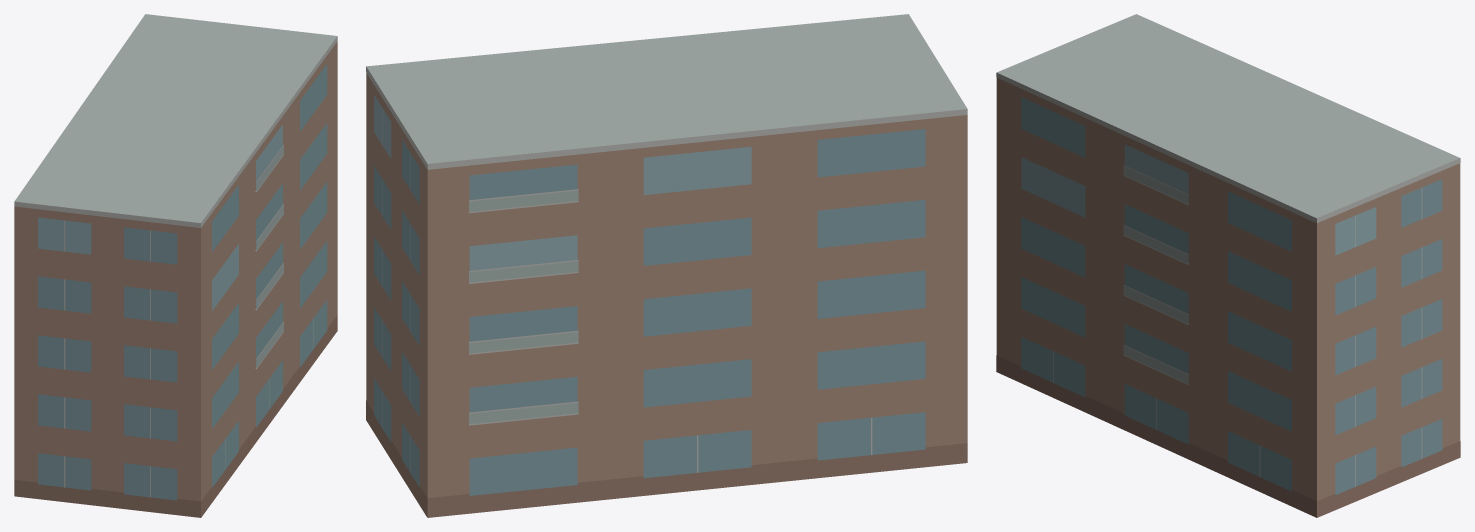
Rendered from survey-upis-32509007.glb.
The picture shows the model from 3 angles, left to right: view 1: azimuth 30°, elevation 25°; view 2: azimuth 150°, elevation 25°; view 3: azimuth 270°, elevation 25°; orthographic projection. The views are drawn at different scales.
Parts seen in each view (by area): view 1: survey-upis-32509007.tmp; view 2: survey-upis-32509007.tmp; view 3: survey-upis-32509007.tmp.
Part boxes in pixels (left/top/right/bottom): survey-upis-32509007.tmp: left=14, top=14, right=337, bottom=517; survey-upis-32509007.tmp: left=366, top=14, right=967, bottom=517; survey-upis-32509007.tmp: left=996, top=14, right=1460, bottom=517.
Size of the model in its own units: 21.59 by 14.75 by 20.71.
